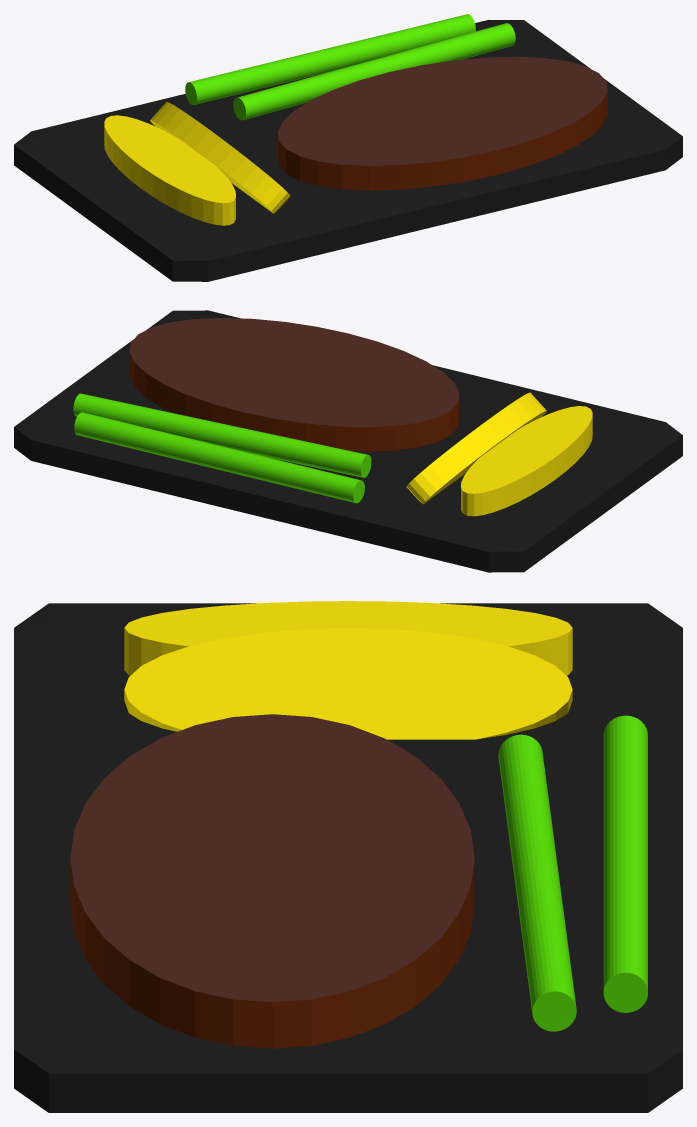
File: Steak.glb
The picture shows the model from 3 angles, top to bottom: view 1: azimuth 30°, elevation 25°; view 2: azimuth 150°, elevation 25°; view 3: azimuth 270°, elevation 25°; orthographic projection. The views are drawn at different scales.
Visible parts, largest first — view 1: Cube.001, Cylinder.003, Cylinder.006, Cylinder.004, Cylinder.005, Cylinder.007; view 2: Cube.001, Cylinder.003, Cylinder.006, Cylinder.004, Cylinder.005, Cylinder.007; view 3: Cube.001, Cylinder.003, Cylinder.007, Cylinder.006, Cylinder.005, Cylinder.004.
Boxes of the visible parts, x1,y1,x2,y2 form: Cube.001: (14, 20, 682, 281); Cylinder.003: (278, 56, 607, 190); Cylinder.006: (104, 115, 235, 225); Cylinder.004: (185, 14, 475, 105); Cylinder.005: (233, 23, 515, 120); Cylinder.007: (150, 102, 290, 213); Cube.001: (14, 310, 682, 572); Cylinder.003: (129, 318, 459, 451); Cylinder.006: (461, 406, 592, 516); Cylinder.004: (74, 412, 364, 503); Cylinder.005: (73, 393, 371, 477); Cylinder.007: (406, 392, 546, 504); Cube.001: (14, 603, 682, 1112); Cylinder.003: (70, 714, 474, 1048); Cylinder.007: (124, 628, 572, 739); Cylinder.006: (124, 601, 572, 675); Cylinder.005: (498, 734, 576, 1031); Cylinder.004: (603, 715, 647, 1012).
Size of the model in its own units: 0.2863 by 0.0354 by 0.1722.
